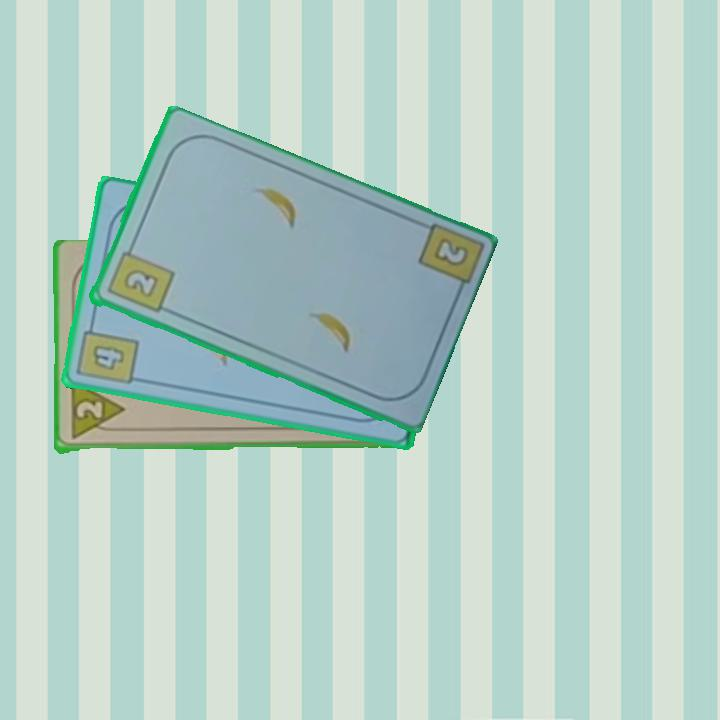2b: (103, 240, 177, 316), (430, 234, 471, 270)
2p: (67, 380, 126, 443)
4b: (74, 316, 142, 388)
